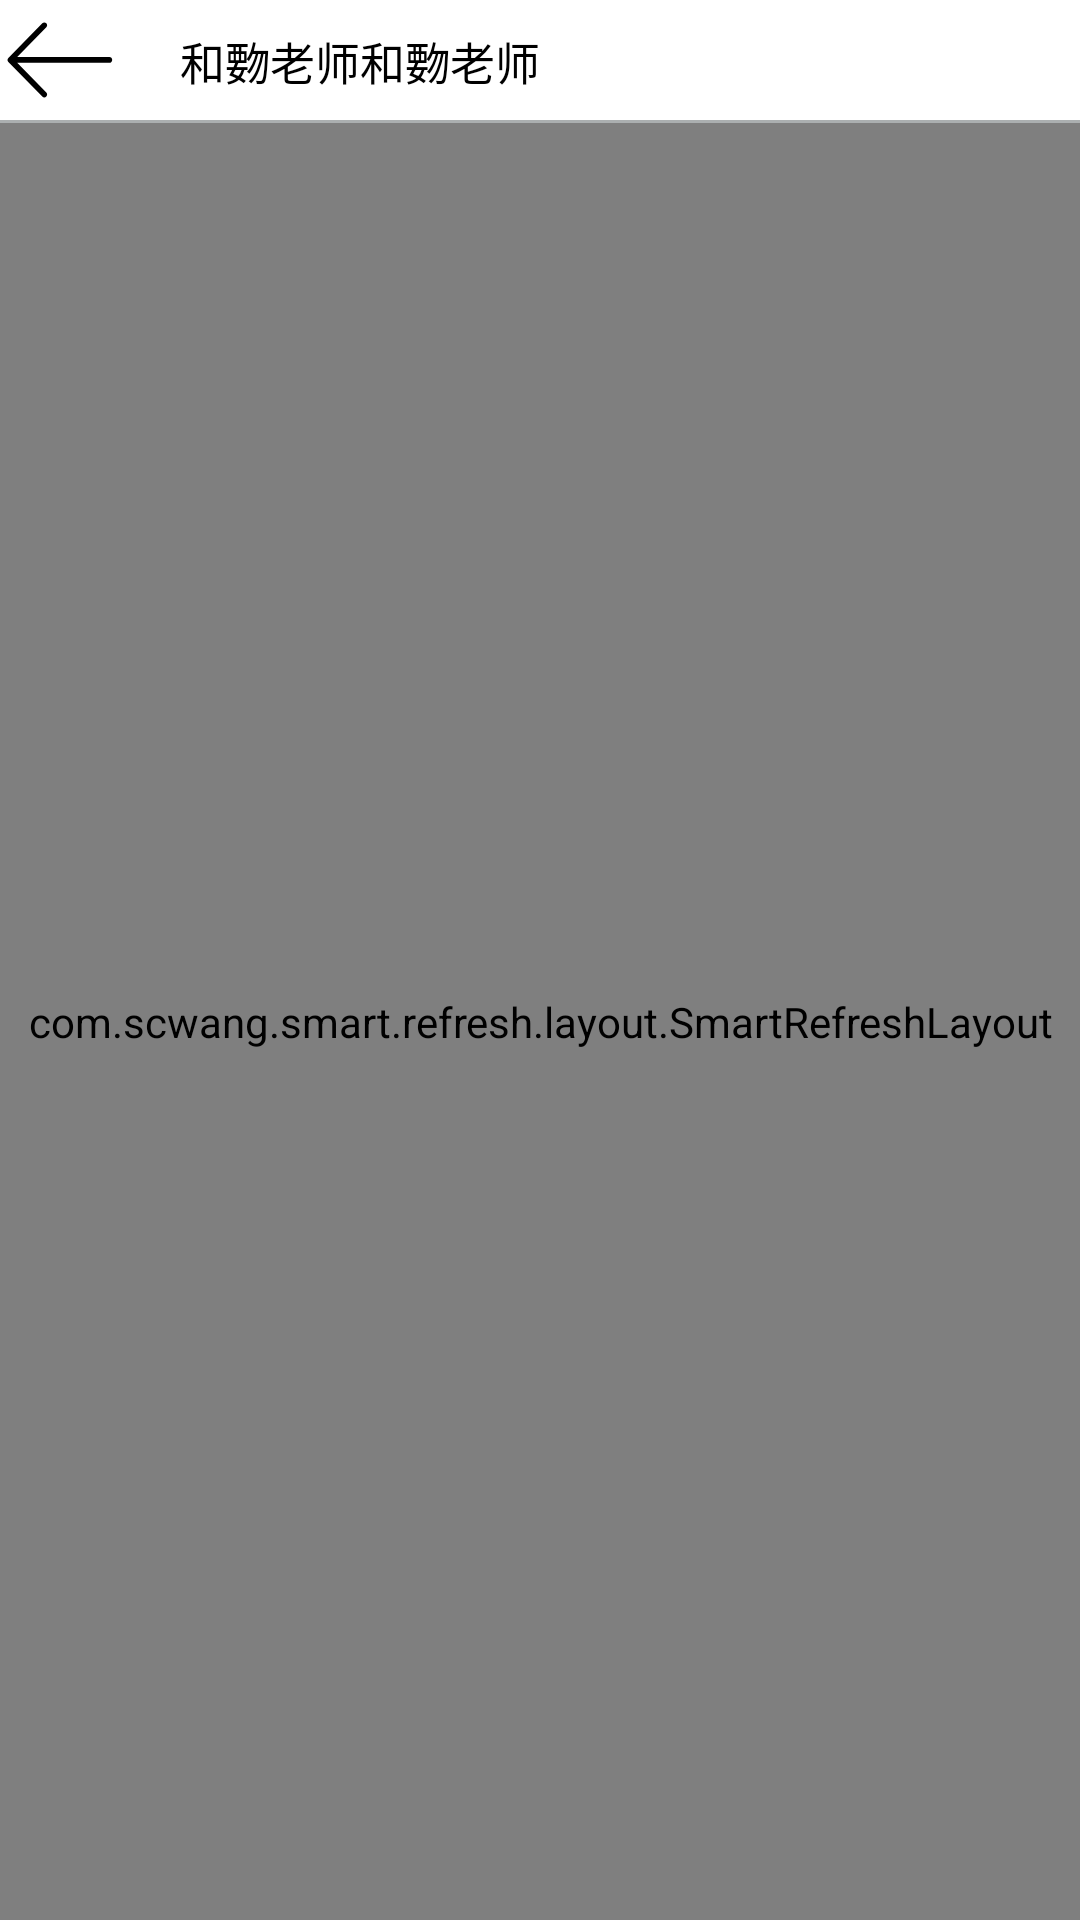

Icons on this 1080px×1920px Android screen, each with its box as box=[x1, y1, x2, y2]:
arrow left: box=[7, 22, 113, 98]
